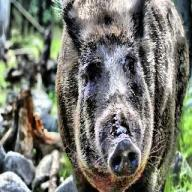boar: (50, 0, 190, 191)
